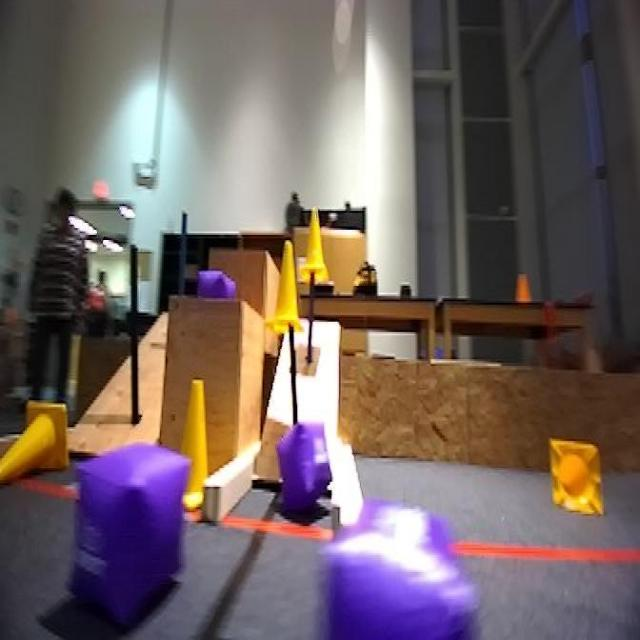frc_cone: (0, 398, 67, 497), (175, 371, 215, 514), (546, 438, 610, 518), (274, 255, 316, 349), (302, 210, 327, 290)
frc_cube: (294, 500, 492, 640), (71, 438, 177, 622), (276, 420, 332, 521), (192, 269, 230, 305)
